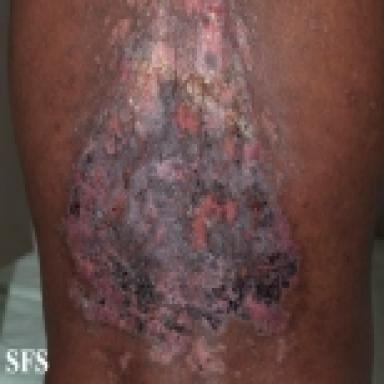Lupus-Erythematosus-Chronicus-Discoides: (56, 0, 309, 384)
